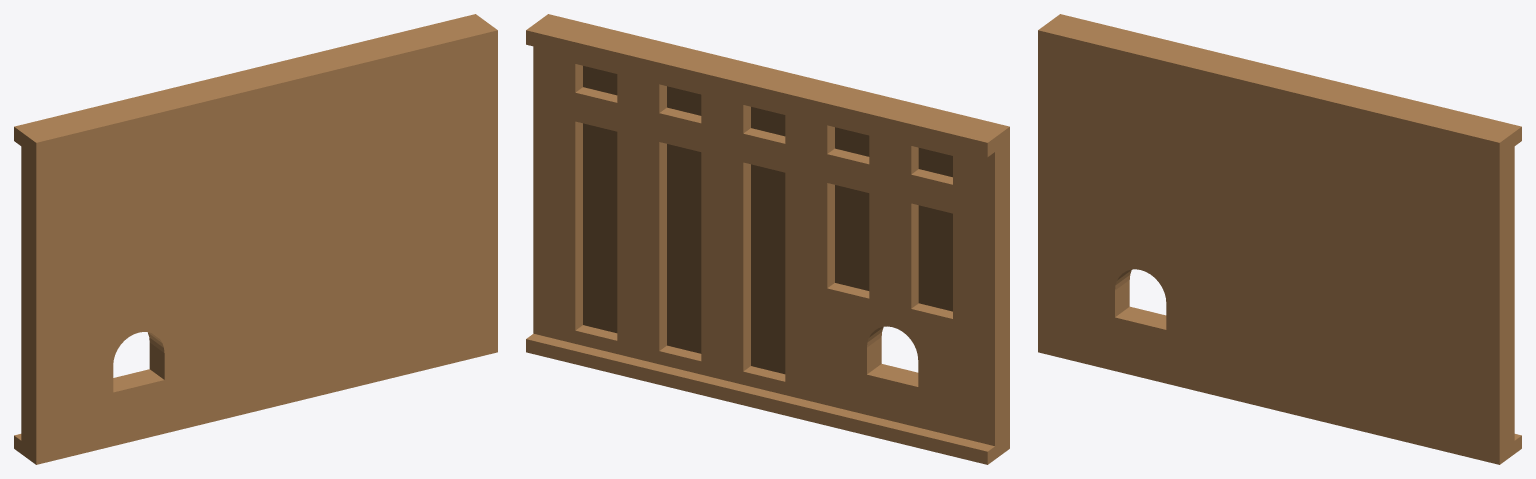
File: F2WallNorth.fbx
3 views of the same model, side by side, from view 1: azimuth 30°, elevation 25°; view 2: azimuth 150°, elevation 25°; view 3: azimuth 330°, elevation 25° (orthographic).
Parts seen in each view (by area): view 1: Wall.005; view 2: Wall.005; view 3: Wall.005.
Part boxes in pixels (x1,y1,x2,y2): Wall.005: (14, 14, 497, 464); Wall.005: (526, 14, 1009, 464); Wall.005: (1038, 14, 1521, 464).
Size of the model in its own units: 90 by 60 by 7.5.
